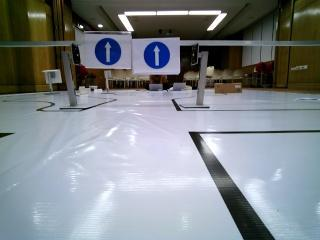straight: (134, 38, 179, 76), (85, 32, 132, 65)
